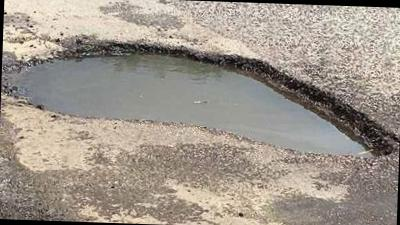pothole: (0, 32, 400, 164)
